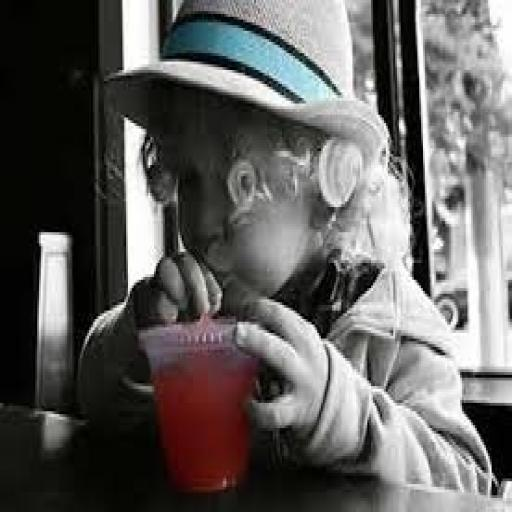drinking: (136, 310, 267, 492)
